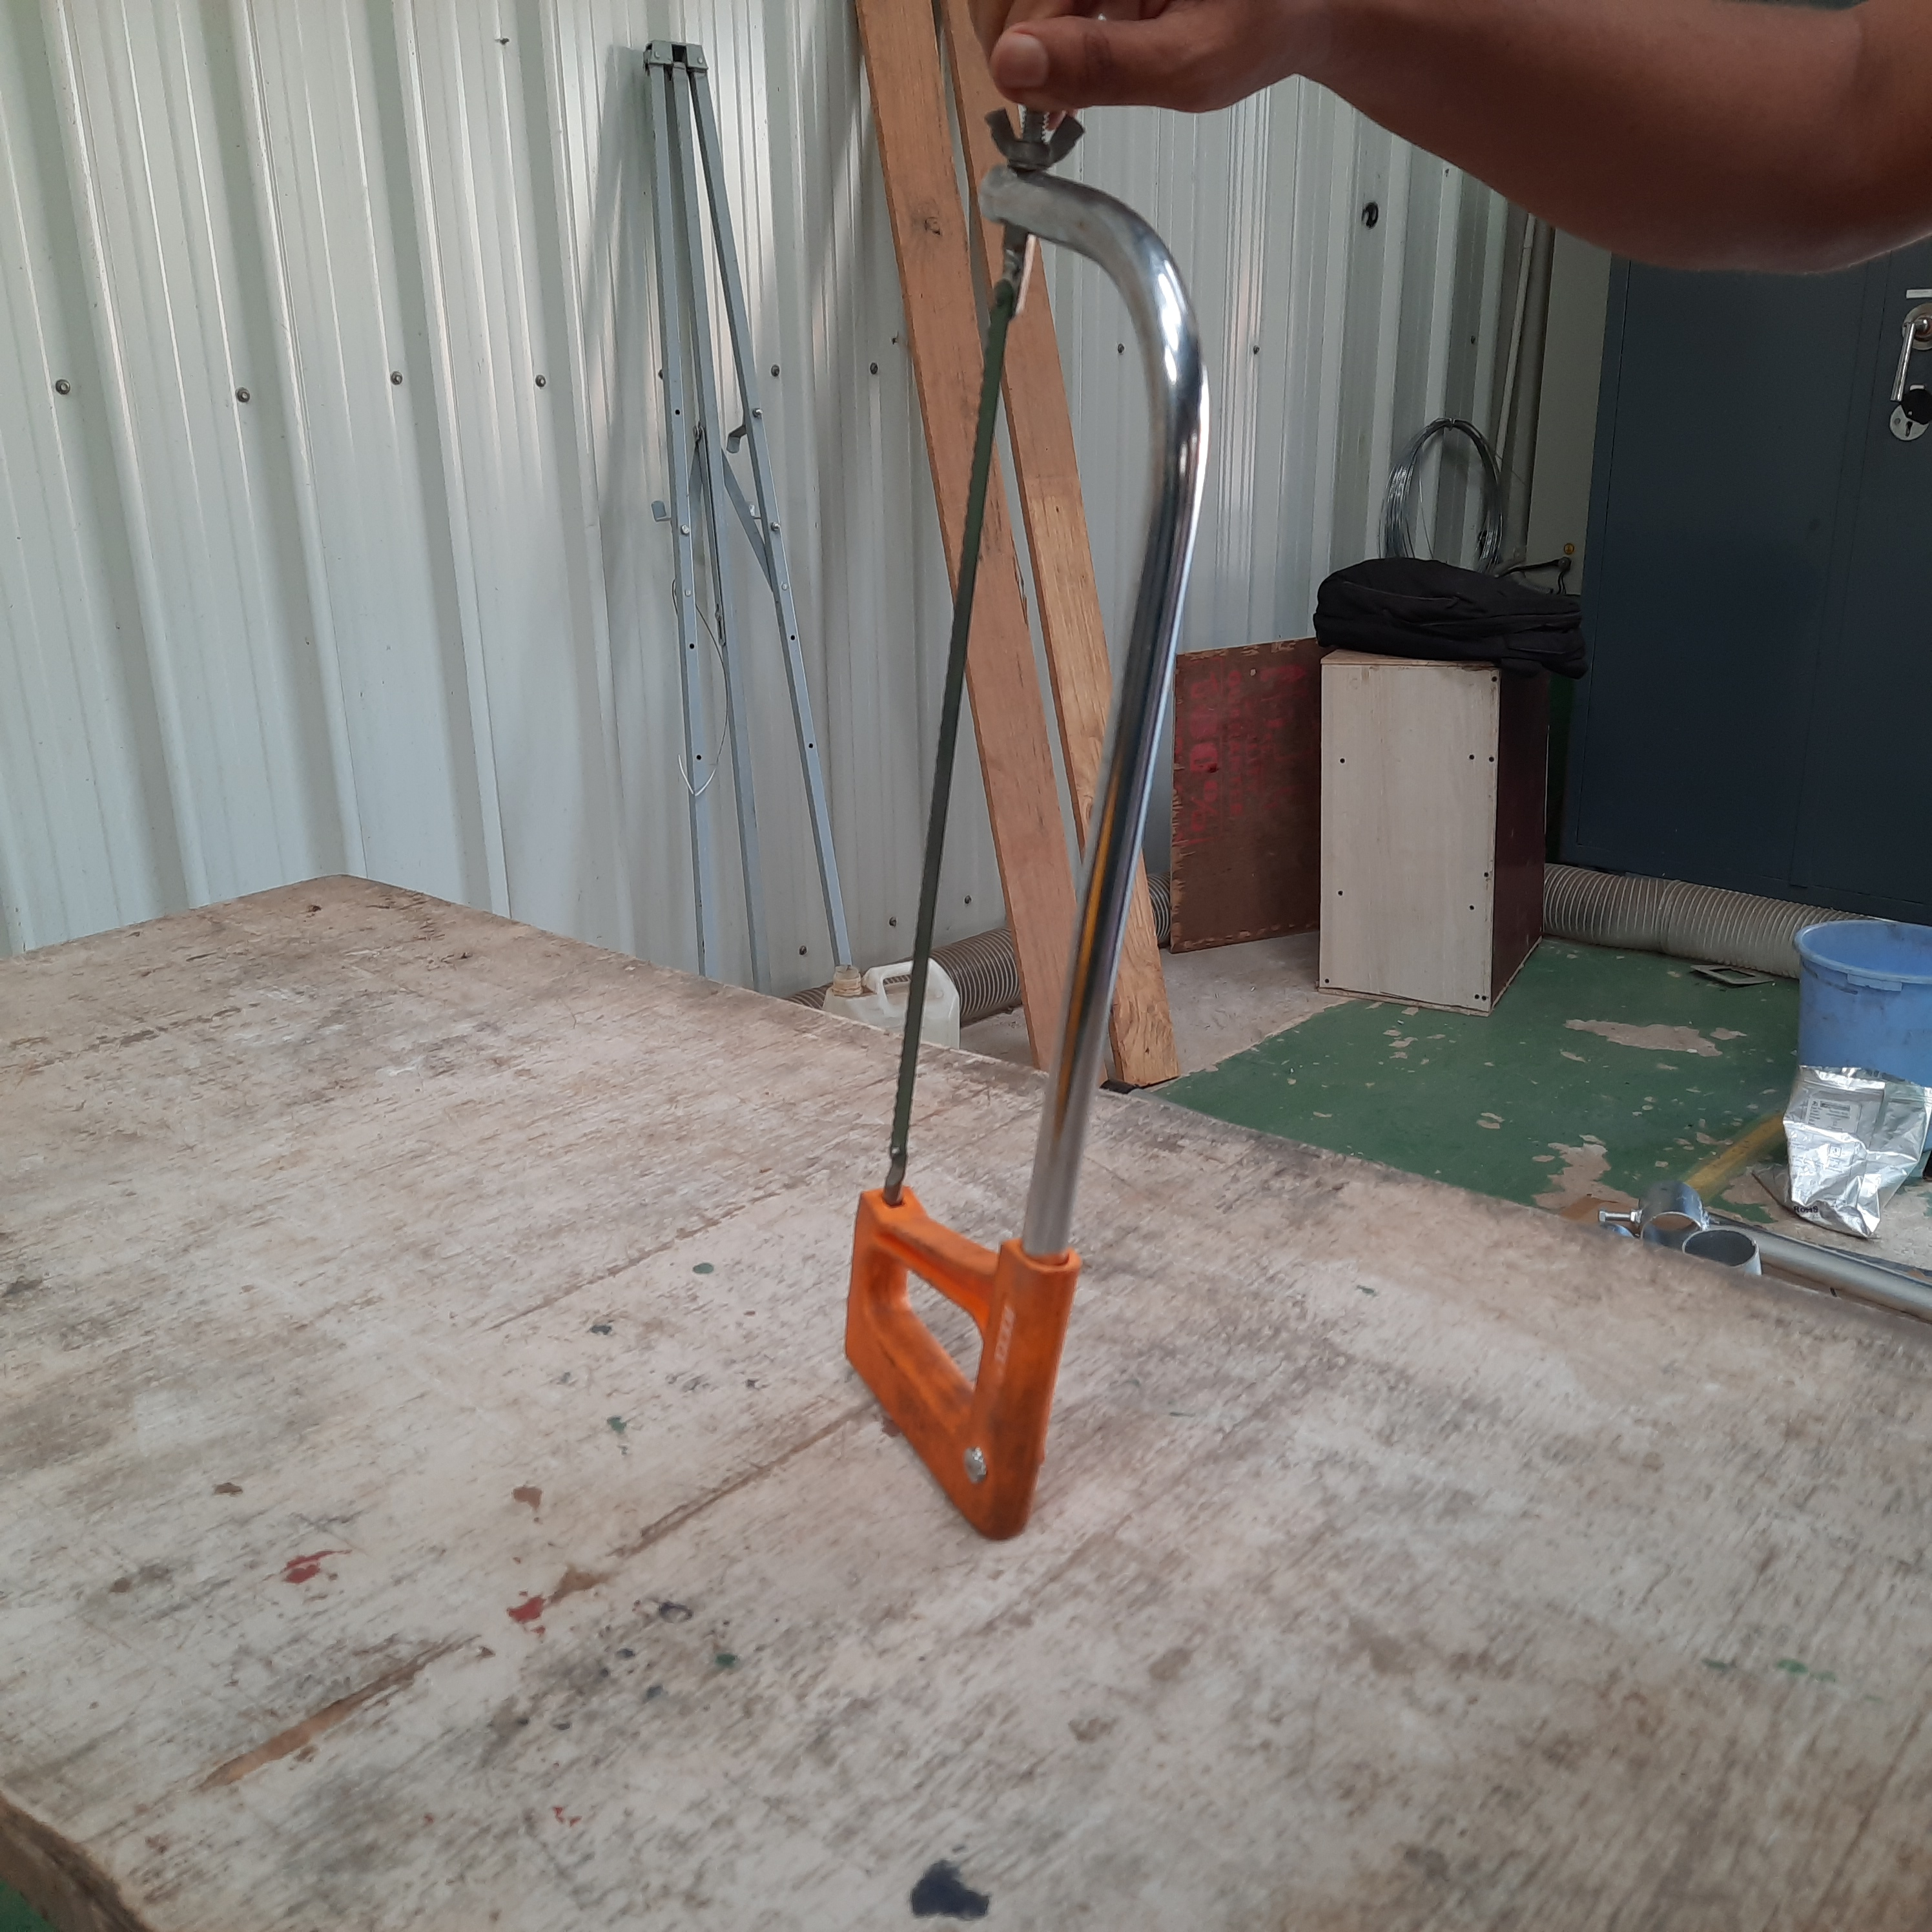Hexaframe: (833, 103, 1253, 1537)
